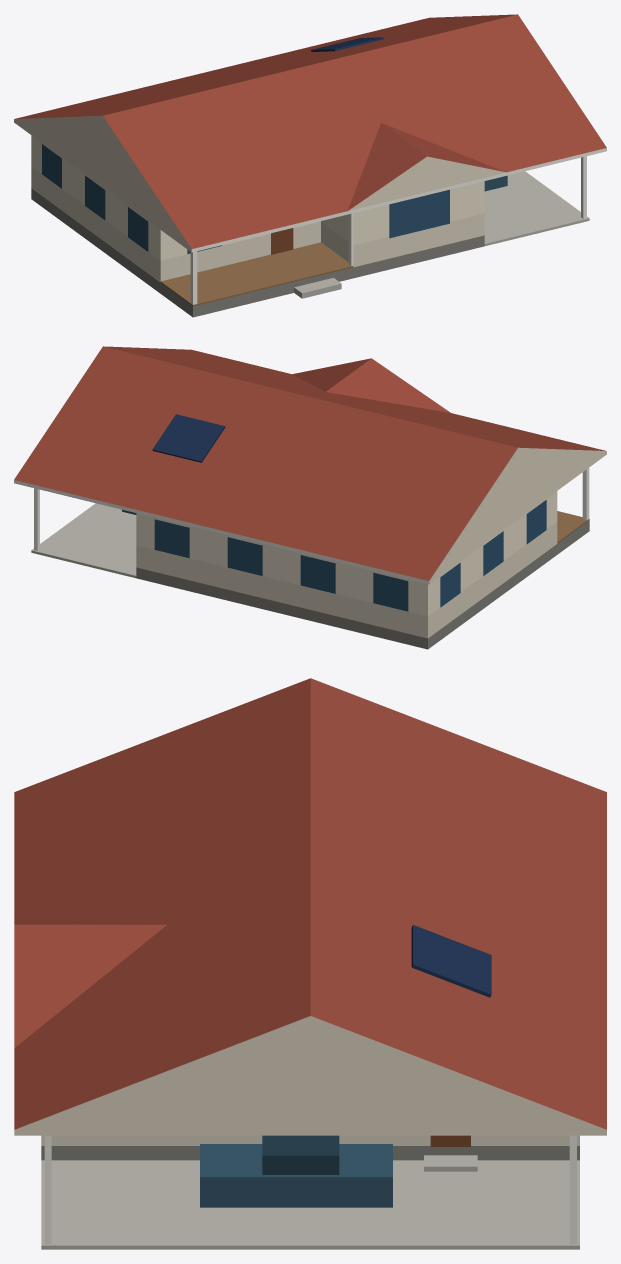
The model's file is house_17x12_lod1.glb.
The picture shows the model from 3 angles, top to bottom: view 1: azimuth 30°, elevation 25°; view 2: azimuth 150°, elevation 25°; view 3: azimuth 270°, elevation 25°; orthographic projection. The views are drawn at different scales.
Visible parts, largest first — view 1: house; view 2: house; view 3: house.
Boxes of the visible parts, x1=… form: house: x1=14, y1=14, x2=606, y2=317; house: x1=14, y1=346, x2=606, y2=649; house: x1=14, y1=678, x2=606, y2=1249.
Size of the model in its own units: 17.8 by 5.94 by 13.21.
